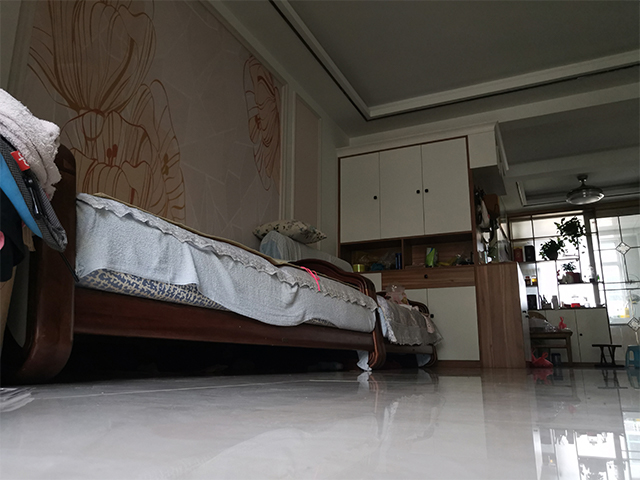cabinet: (433, 266, 499, 367), (530, 304, 612, 367)
sofa: (1, 84, 445, 386)
stool: (590, 343, 626, 369), (626, 344, 640, 372)
table: (528, 328, 576, 369)
